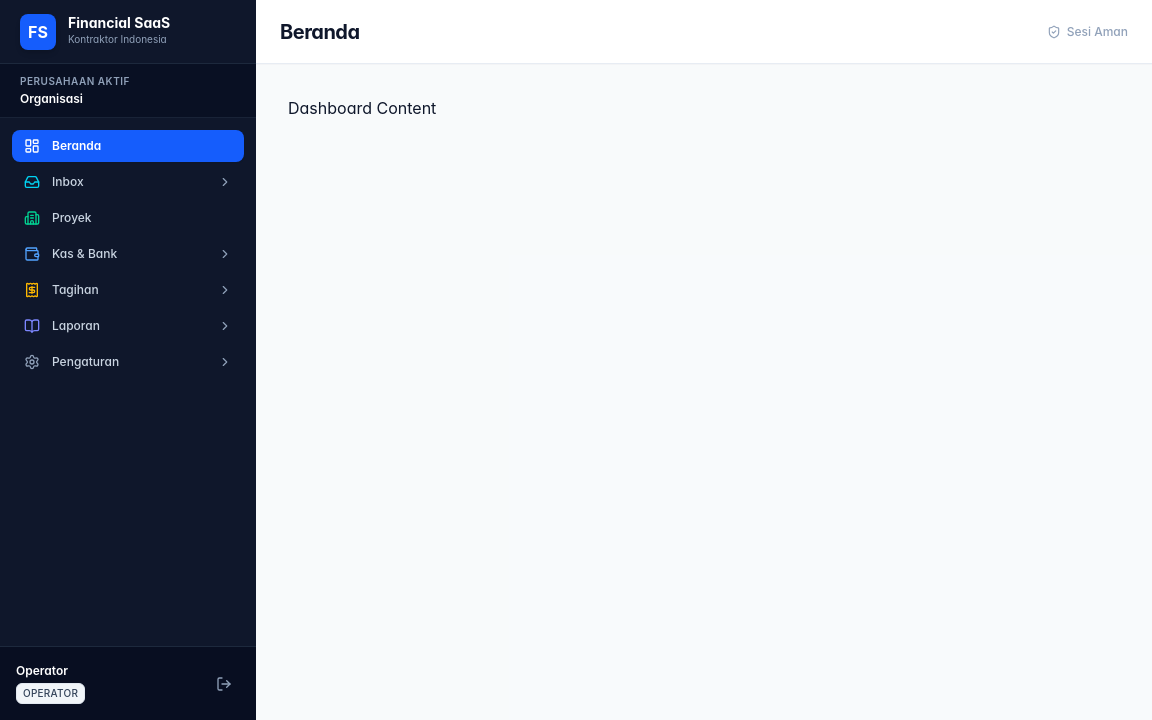
Test: App Navigation and Canonical Inbox › prioritizes Dokumen Bukti and Perlu Diperiksa in Inbox menu and hides legacy WhatsApp Inbox
Note: Click to expand Inbox
Click the button "Inbox" at x=128, y=182, box [12,166,244,198]
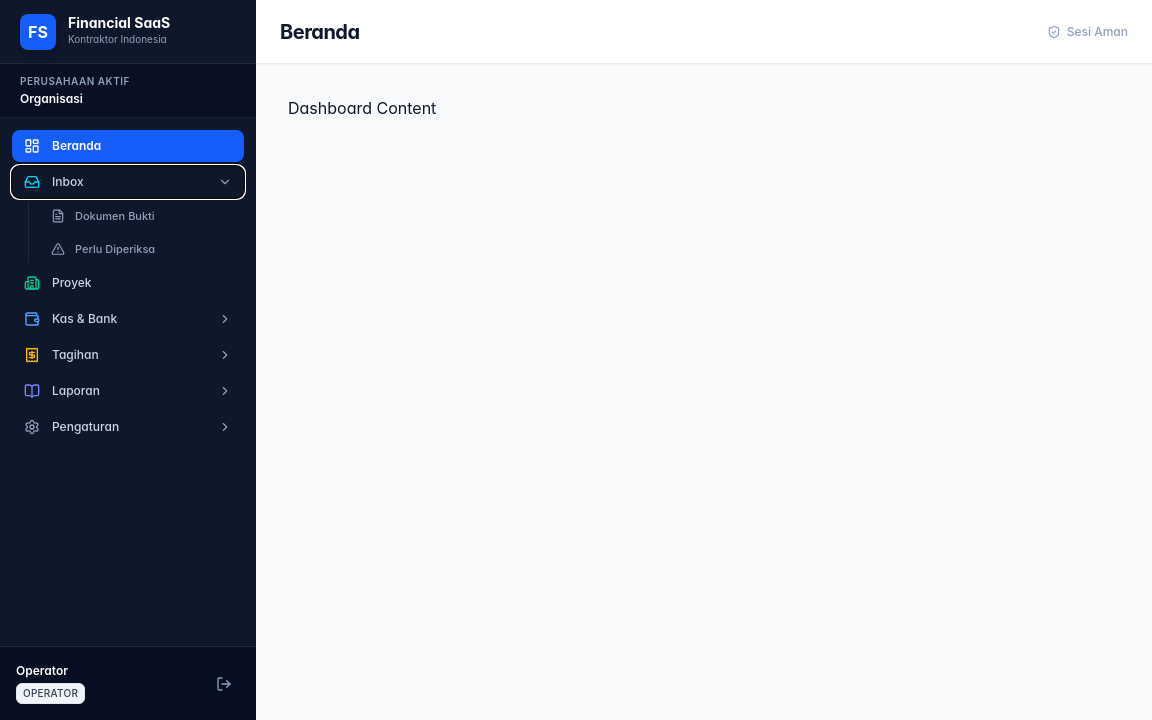
Now the text "Dokumen Bukti" is shown, box [75,208,155,224]
Now the text "Perlu Diperiksa" is shown, box [75,240,155,257]
